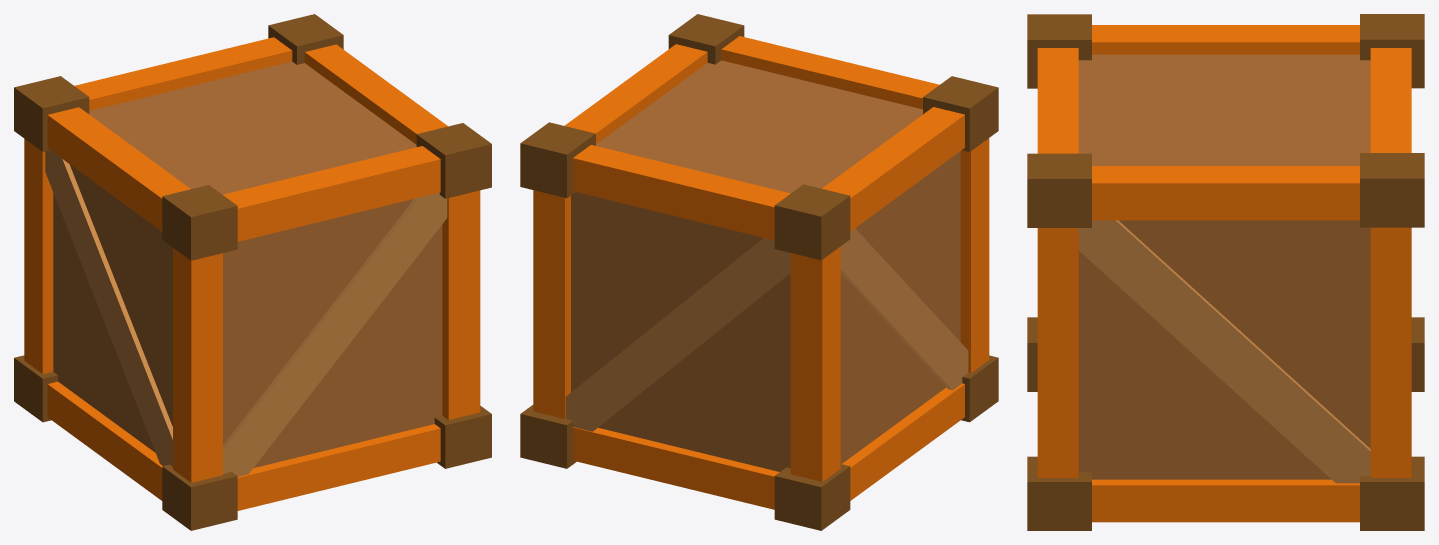
Rendered from WoodenCrate.fbx.
3 renders of one model, left to right at view 1: azimuth 30°, elevation 25°; view 2: azimuth 150°, elevation 25°; view 3: azimuth 270°, elevation 25°, orthographic. The views are drawn at different scales.
Parts seen in each view (by area): view 1: Crate, Edge, Wood; view 2: Crate, Edge, Wood; view 3: Crate, Edge, Wood.
Part boxes in pixels (x1,y1,x2,y2): Crate: (24, 37, 480, 510); Edge: (14, 14, 491, 530); Wood: (45, 150, 447, 476); Crate: (533, 36, 989, 509); Edge: (520, 14, 998, 530); Wood: (565, 228, 968, 431); Crate: (1037, 25, 1411, 522); Edge: (1027, 14, 1424, 530); Wood: (1078, 220, 1370, 483).
Size of the model in its own units: 208 by 208 by 212.
